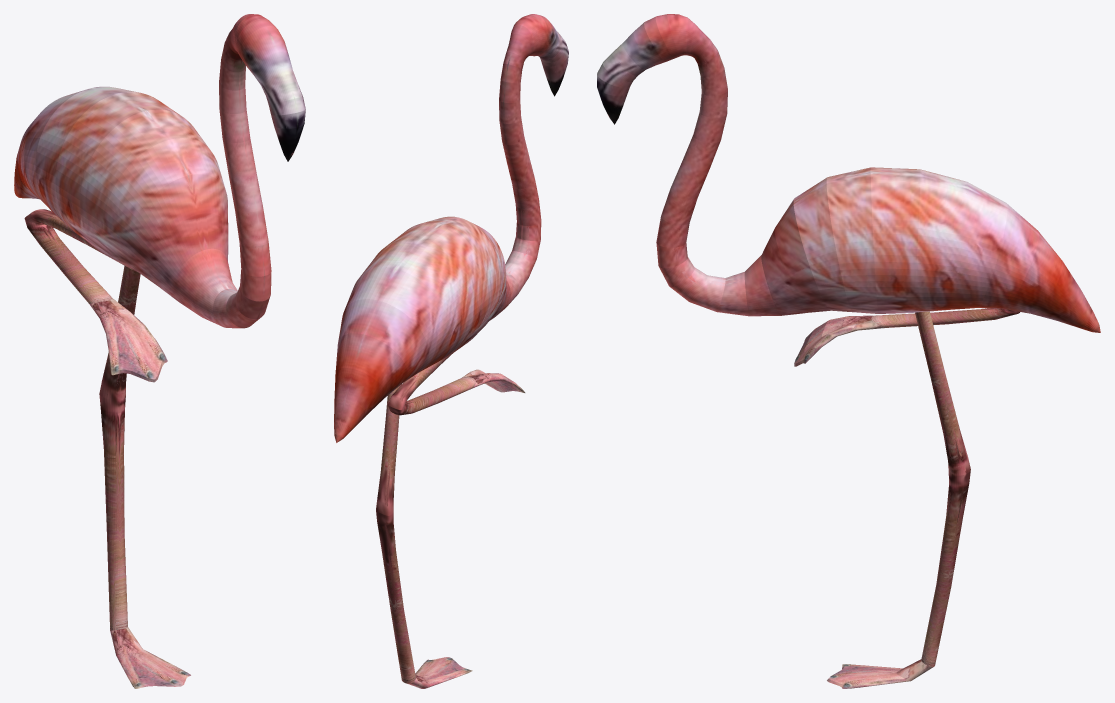
The model's file is Flamingo.fbx.
3 views of the same model, side by side, from view 1: azimuth 30°, elevation 25°; view 2: azimuth 150°, elevation 25°; view 3: azimuth 270°, elevation 25° (orthographic). The views are drawn at different scales.
Visible parts, largest first — view 1: Cylinder.001; view 2: Cylinder.001; view 3: Cylinder.001.
Part boxes in pixels (bbox=[...]): Cylinder.001: bbox=[14, 14, 305, 688]; Cylinder.001: bbox=[334, 14, 568, 688]; Cylinder.001: bbox=[597, 14, 1100, 688].
Bounding box in the file's own units: 106 × 552 × 381.
Materials: 1 (1 with a texture image).
